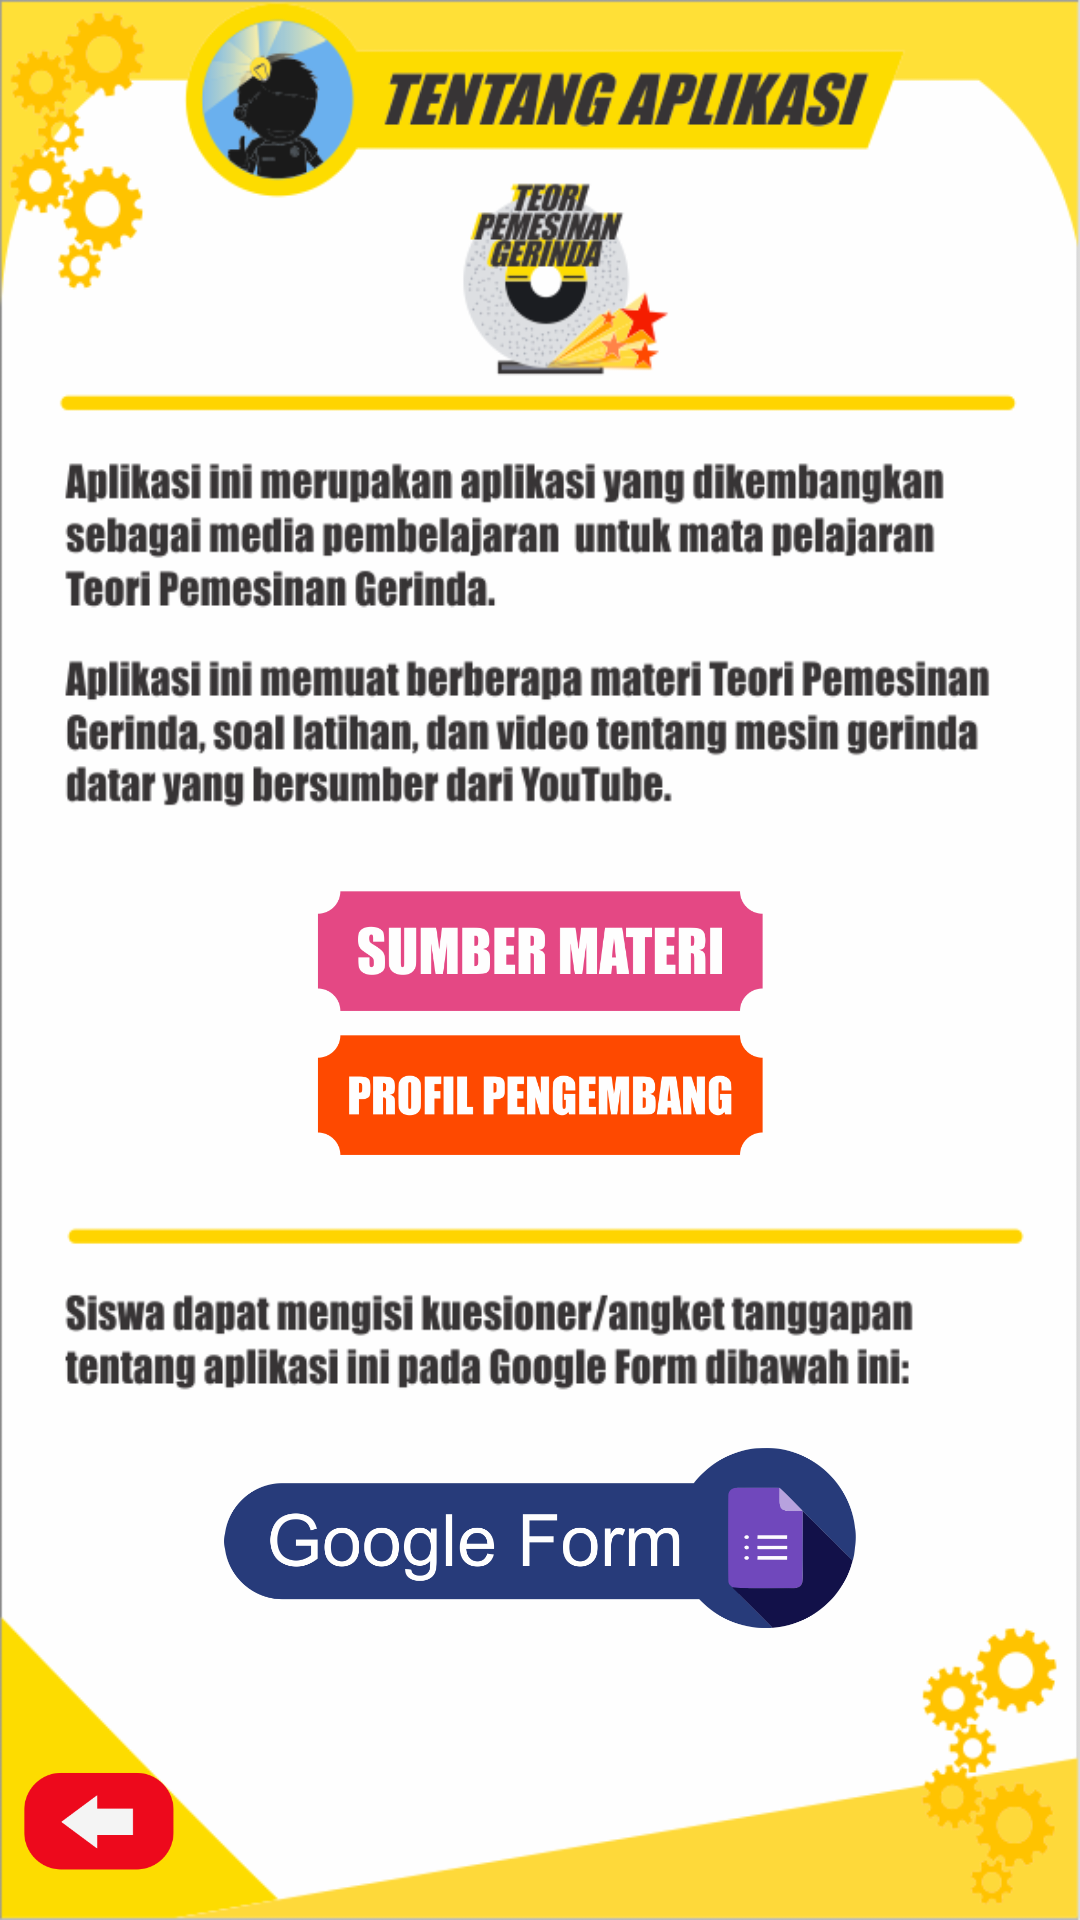

Icons on this 1080w x 1920h Android screen, each with the point to tap as (x=x, y=y):
back: (x=99, y=1808)
